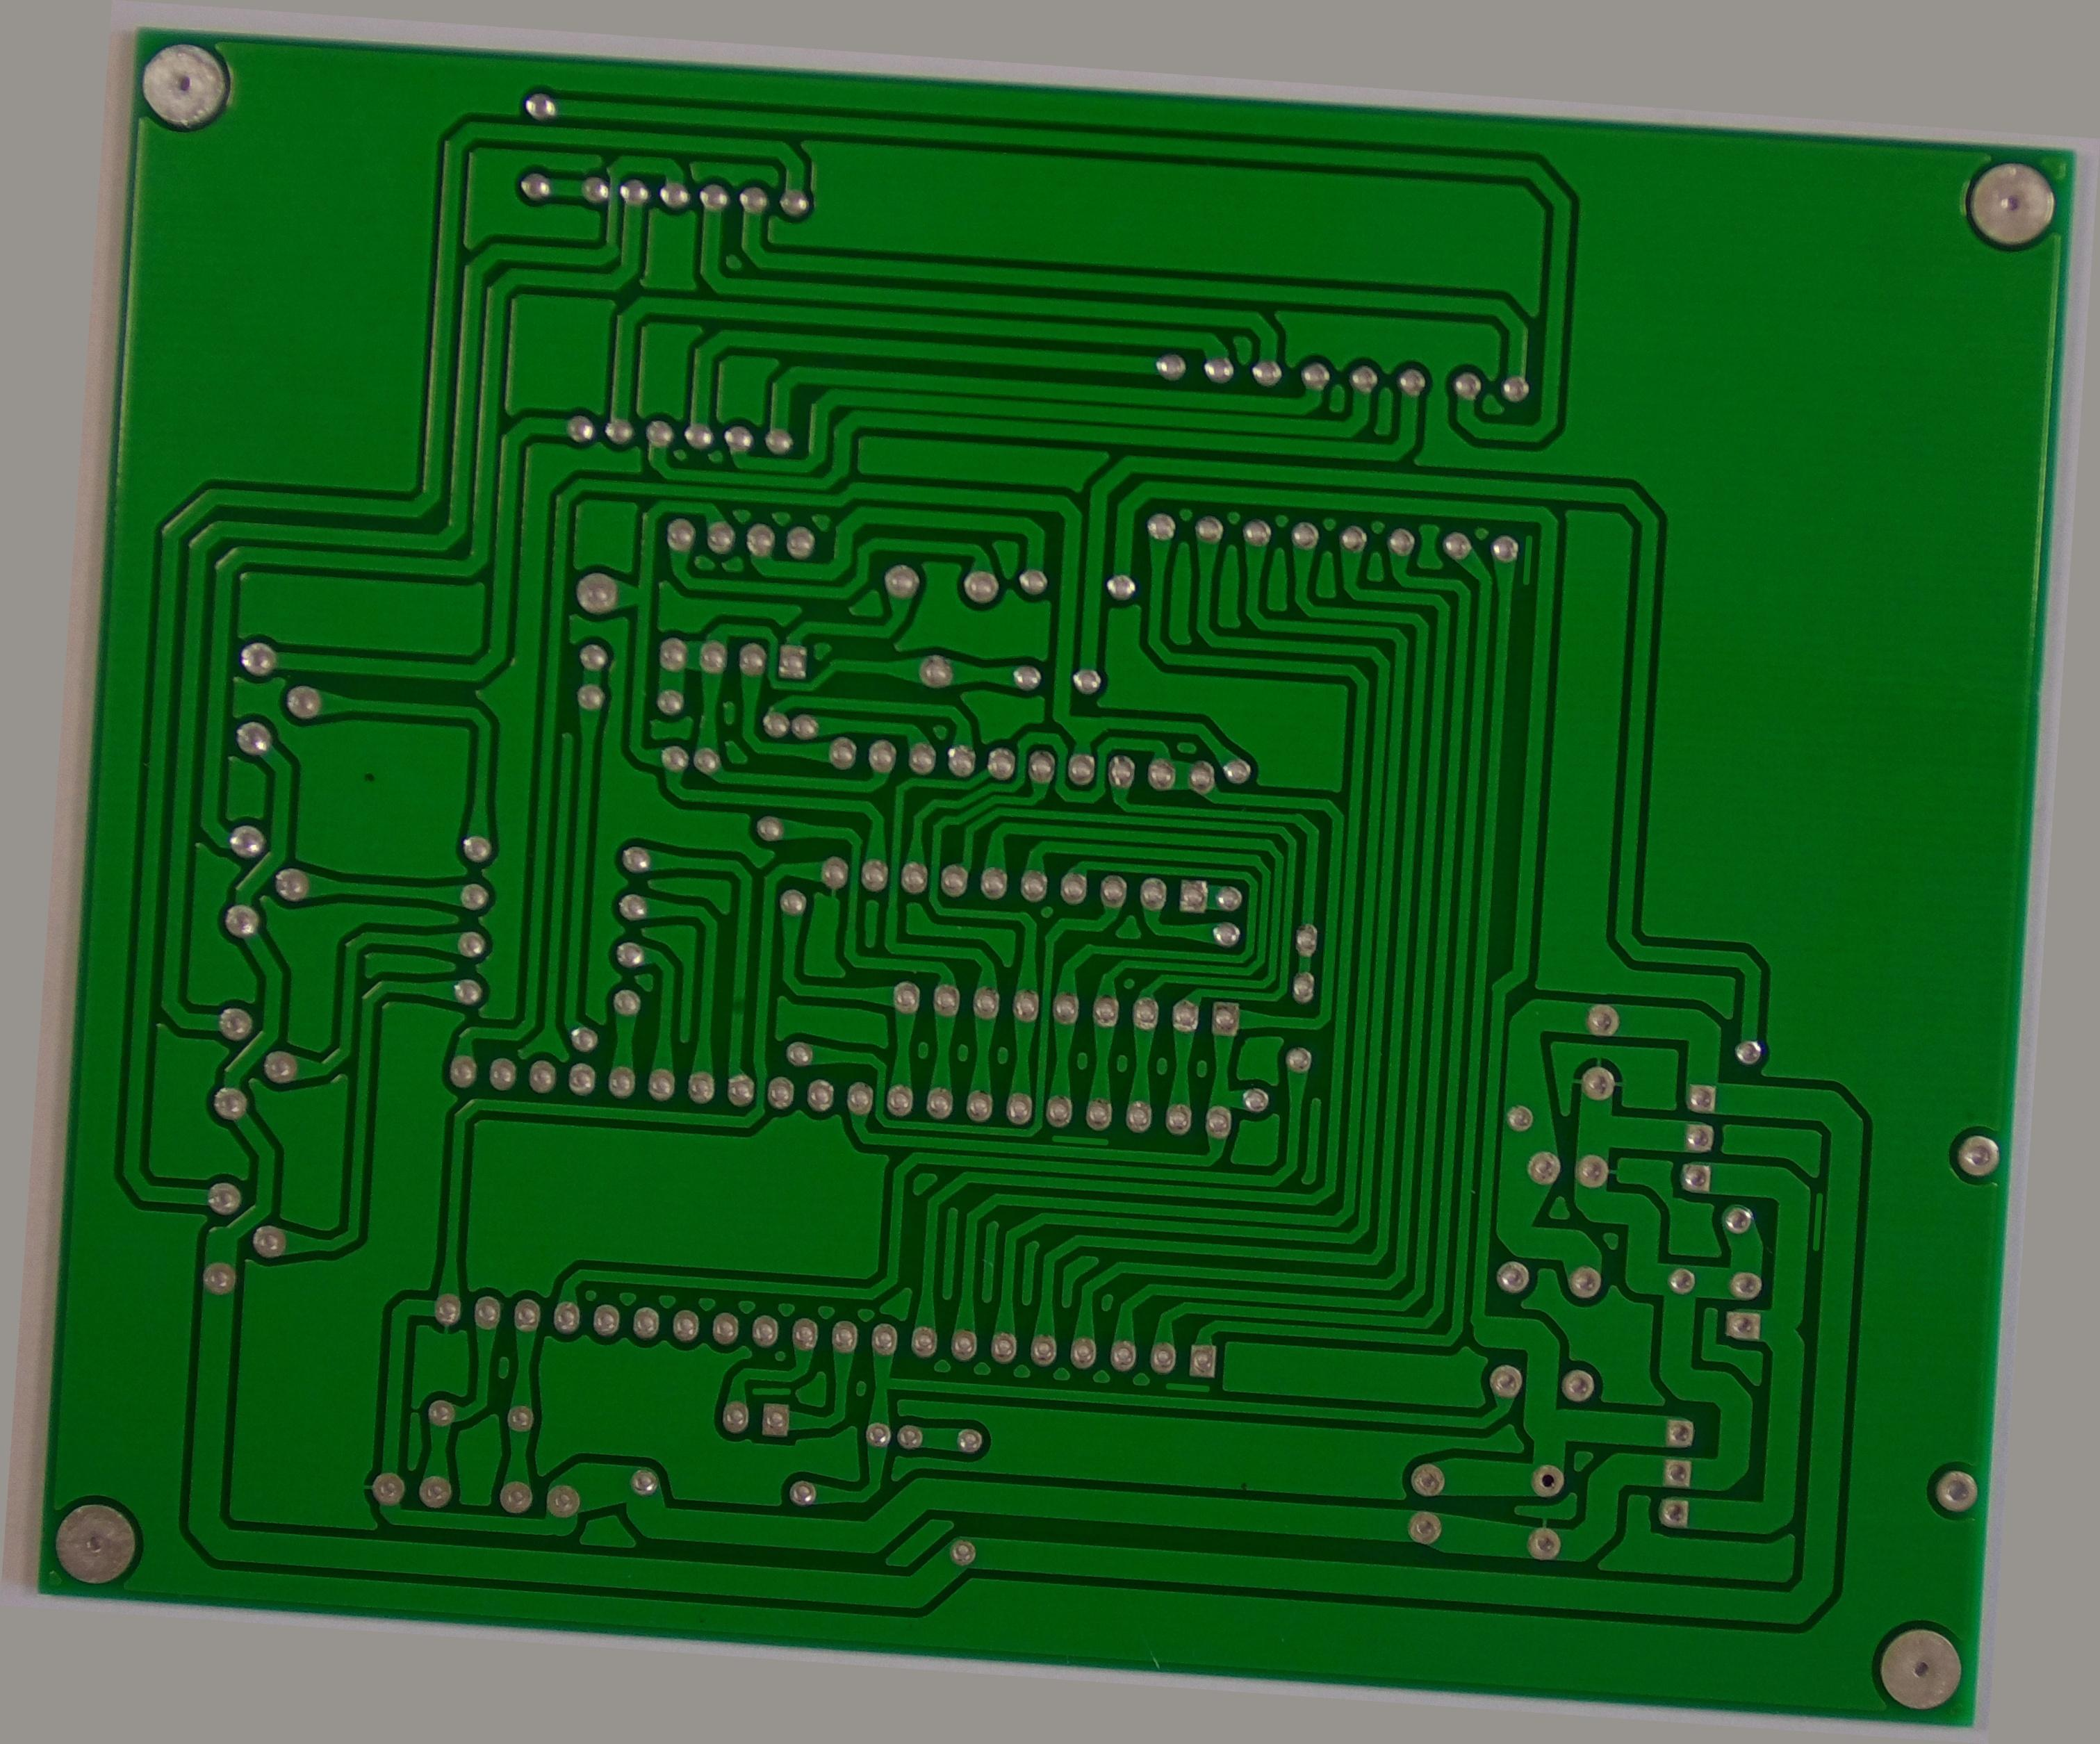spurious_copper: (1866, 1146, 1899, 1236), (1064, 1142, 1135, 1177), (1514, 462, 1545, 537), (1198, 1406, 1261, 1430), (769, 1441, 820, 1465)
